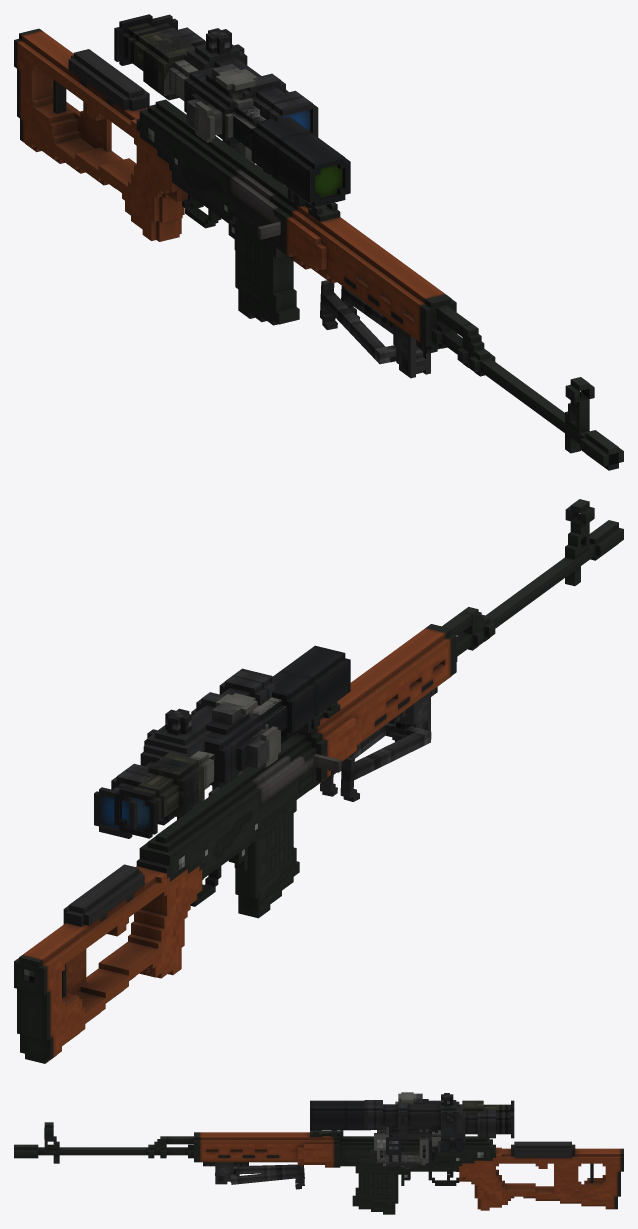
The model's file is RD_SVD.glb.
The picture shows the model from 3 angles, top to bottom: view 1: azimuth 30°, elevation 25°; view 2: azimuth 150°, elevation 25°; view 3: azimuth 270°, elevation 25°; orthographic projection. The views are drawn at different scales.
Parts seen in each view (by area): view 1: SVD, SCOPE_PO6, SCOPE_PSO1, SCOPE_PKS07, SVD_CLIP, DIPOD1_LEG1, DIPOD1_BODY, DIPOD1_LEG2; view 2: SVD, SCOPE_PO6, SCOPE_PKS07, SCOPE_PSO1, SVD_CLIP, DIPOD1_LEG1, DIPOD1_LEG2; view 3: SVD, SCOPE_PKS07, SCOPE_PO6, SVD_CLIP, SCOPE_PSO1, DIPOD1_LEG2, DIPOD1_LEG1, DIPOD1_BODY.
Boxes of the visible parts, x1,y1,x2,y2 form: SVD: (14,28,623,470); SCOPE_PO6: (143,36,350,207); SCOPE_PSO1: (114,14,285,186); SCOPE_PKS07: (153,14,318,188); SVD_CLIP: (235,220,299,325); DIPOD1_LEG1: (320,280,396,364); DIPOD1_BODY: (393,323,430,378); DIPOD1_LEG2: (341,286,393,334); SVD: (14,499,623,1063); SCOPE_PO6: (145,645,350,825); SCOPE_PKS07: (94,668,277,838); SCOPE_PSO1: (114,693,285,838); SVD_CLIP: (235,800,299,918); DIPOD1_LEG1: (340,726,431,801); DIPOD1_LEG2: (320,723,395,796); SVD: (14,1122,623,1210); SCOPE_PKS07: (364,1093,514,1168); SCOPE_PO6: (310,1093,483,1165); SVD_CLIP: (352,1166,398,1214); SCOPE_PSO1: (374,1092,514,1165); DIPOD1_LEG2: (230,1165,304,1189); DIPOD1_LEG1: (233,1164,304,1183); DIPOD1_BODY: (215,1162,233,1184).
Bounding box in the file's own units: 0.1673 × 0.4329 × 1.97.
5 materials, 5 textured.
